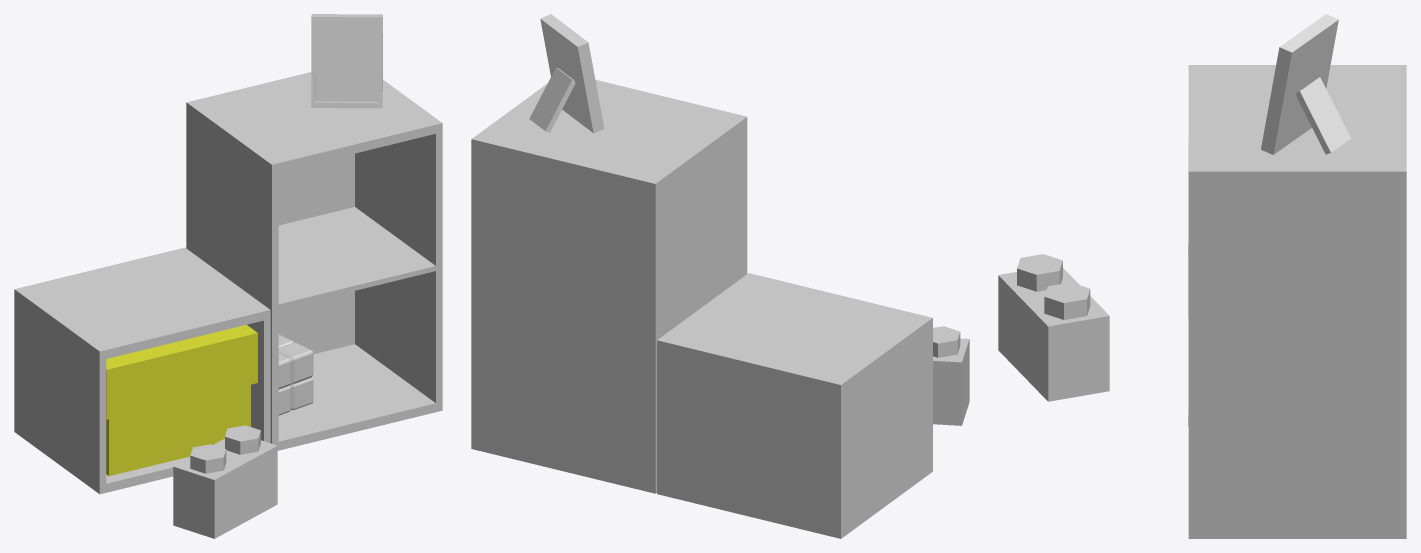
File: RoomItem.03.fbx
3 renders of one model, left to right at view 1: azimuth 30°, elevation 25°; view 2: azimuth 150°, elevation 25°; view 3: azimuth 270°, elevation 25°, orthographic. The views are drawn at different scales.
Parts seen in each view (by area): view 1: Cube, Cube.002, Cube.003, Cube.001, Cube.004; view 2: Cube, Cube.001, Cube.003; view 3: Cube, Cube.003, Cube.001.
Boxes of the visible parts, x1,y1,x2,y2 form: Cube: (14, 72, 442, 494); Cube.002: (106, 325, 257, 476); Cube.003: (173, 425, 277, 538); Cube.001: (311, 14, 382, 108); Cube.004: (278, 334, 313, 415); Cube: (471, 79, 932, 538); Cube.001: (529, 14, 604, 133); Cube.003: (933, 326, 969, 425); Cube: (1188, 65, 1406, 538); Cube.003: (998, 254, 1109, 401); Cube.001: (1261, 14, 1350, 154).
Bounding box in the file's own units: 111 × 116 × 89.87.
